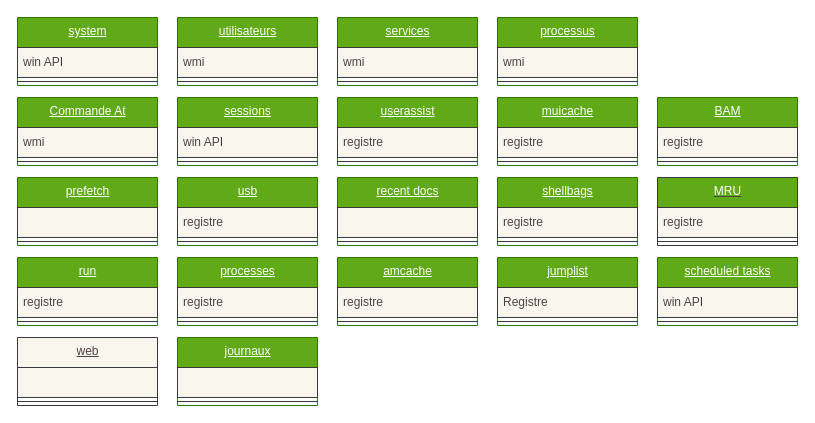
The diagram is 815 pixels wide and 423 high, and some of its shapes have lost their labels. Here are the shapes that lost their labels. From the top down, the centre of each, then its label:
the point at 87,222: files
the point at 407,222: LNK
the point at 87,382: SQLITE
the point at 247,382: WIN32 ou WMI
